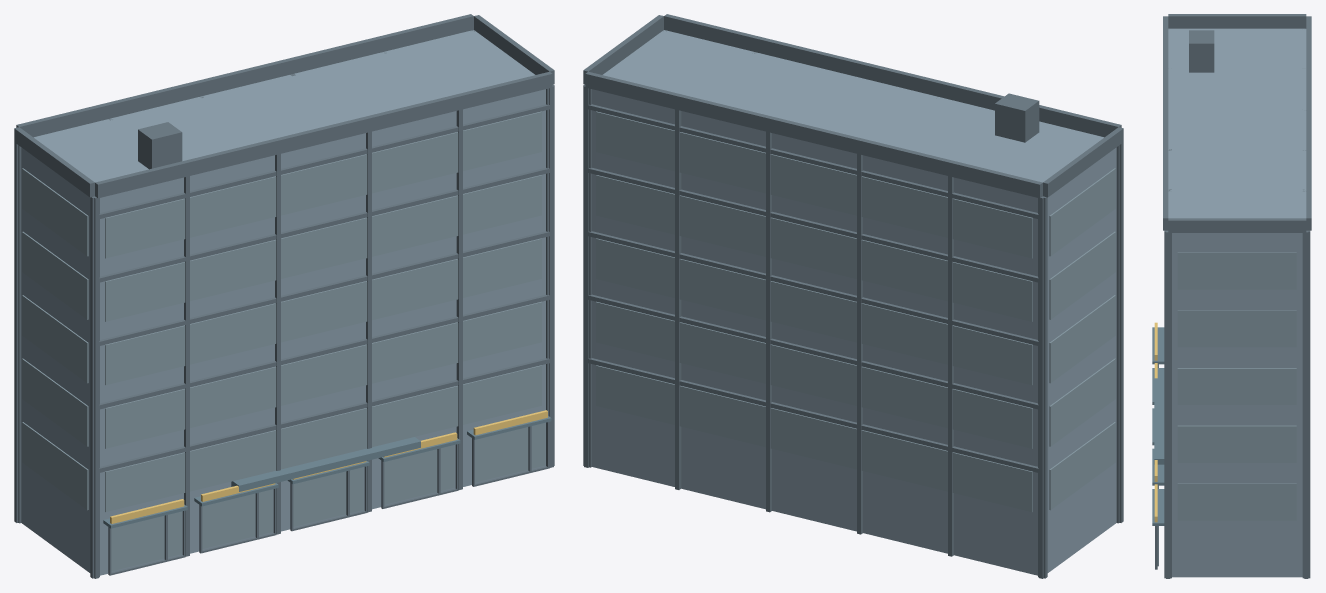
File: commercial_3x1_b.glb
The picture shows the model from 3 angles, left to right: view 1: azimuth 30°, elevation 25°; view 2: azimuth 150°, elevation 25°; view 3: azimuth 270°, elevation 25°; orthographic projection. The views are drawn at different scales.
Parts seen in each view (by area): view 1: commercial_3x1_b_0; view 2: commercial_3x1_b_0; view 3: commercial_3x1_b_0.
Boxes of the visible parts, box(x1,y1,x2,y2) form: commercial_3x1_b_0: box(14, 14, 554, 578); commercial_3x1_b_0: box(583, 14, 1123, 578); commercial_3x1_b_0: box(1152, 14, 1311, 578).
Bounding box in the file's own units: 23 × 19.5 × 7.5.
